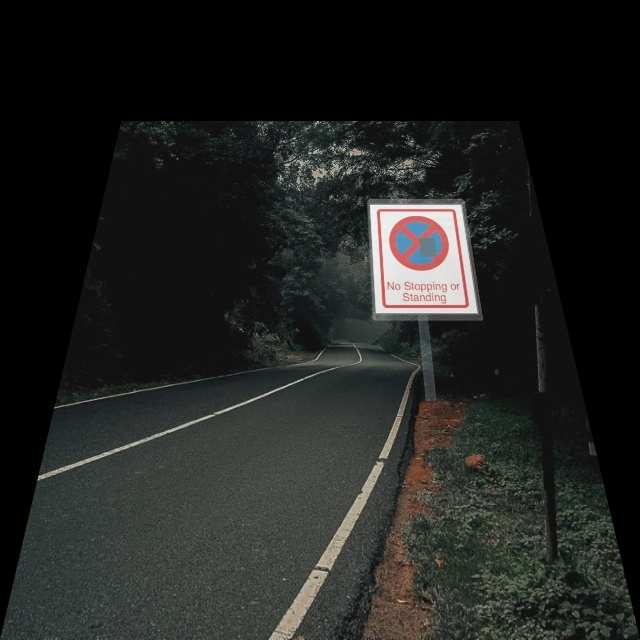No_Stopping_or_Standing: (381, 211, 461, 278)
